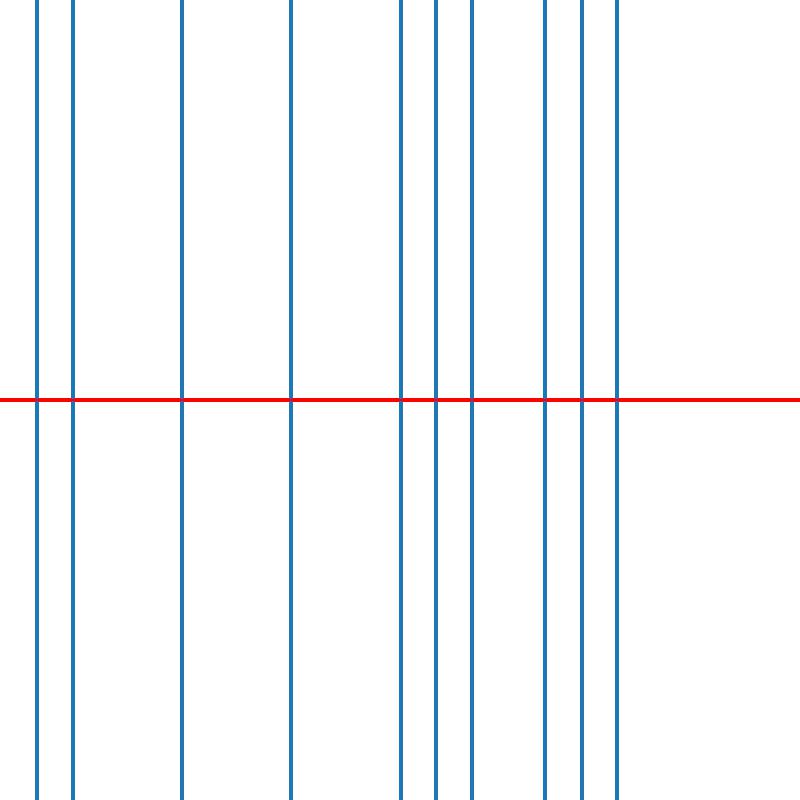root: (432, 396, 440, 404), (32, 396, 40, 404), (541, 396, 549, 404), (469, 396, 476, 404), (69, 396, 76, 404), (578, 396, 585, 404), (396, 396, 403, 404), (614, 396, 621, 404), (178, 396, 185, 404), (287, 396, 294, 404)
